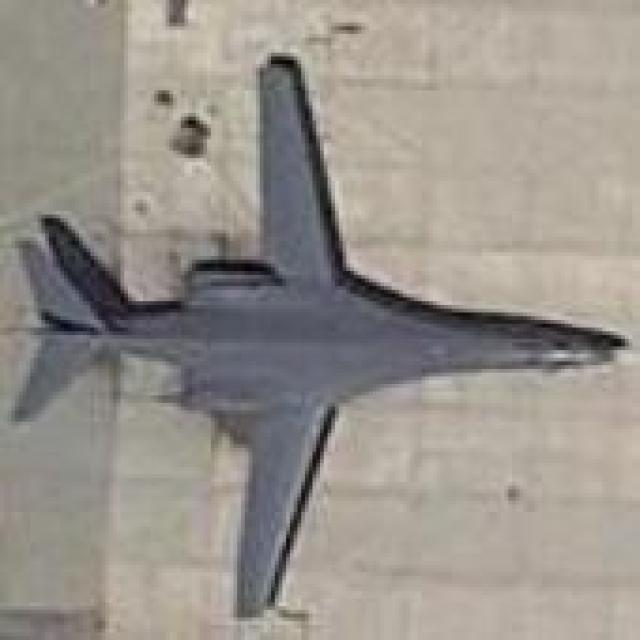B-1_TopDown: (0, 45, 629, 625)
